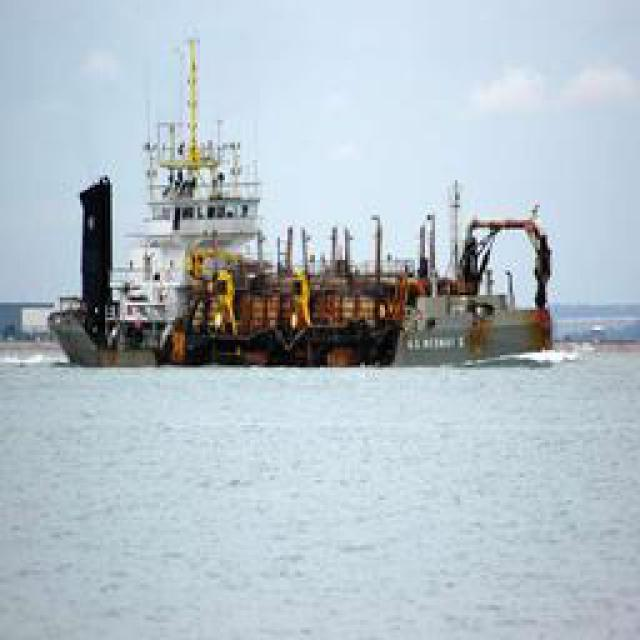Ship: (58, 25, 568, 385)
